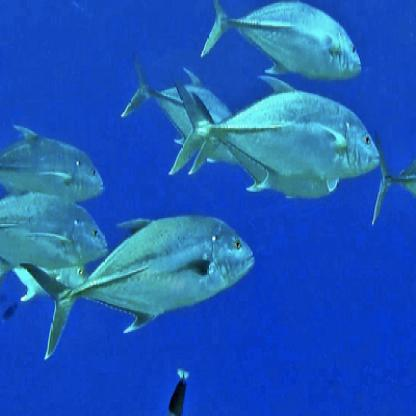jack: (18, 208, 255, 365), (160, 83, 384, 192), (196, 1, 366, 89)
